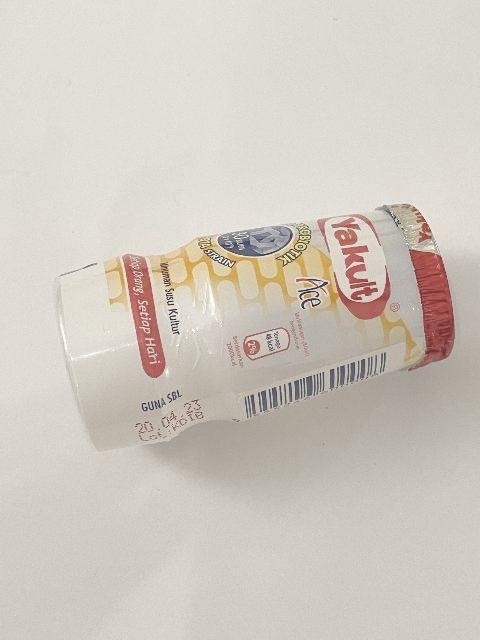plasticbottle: (51, 202, 458, 454)
